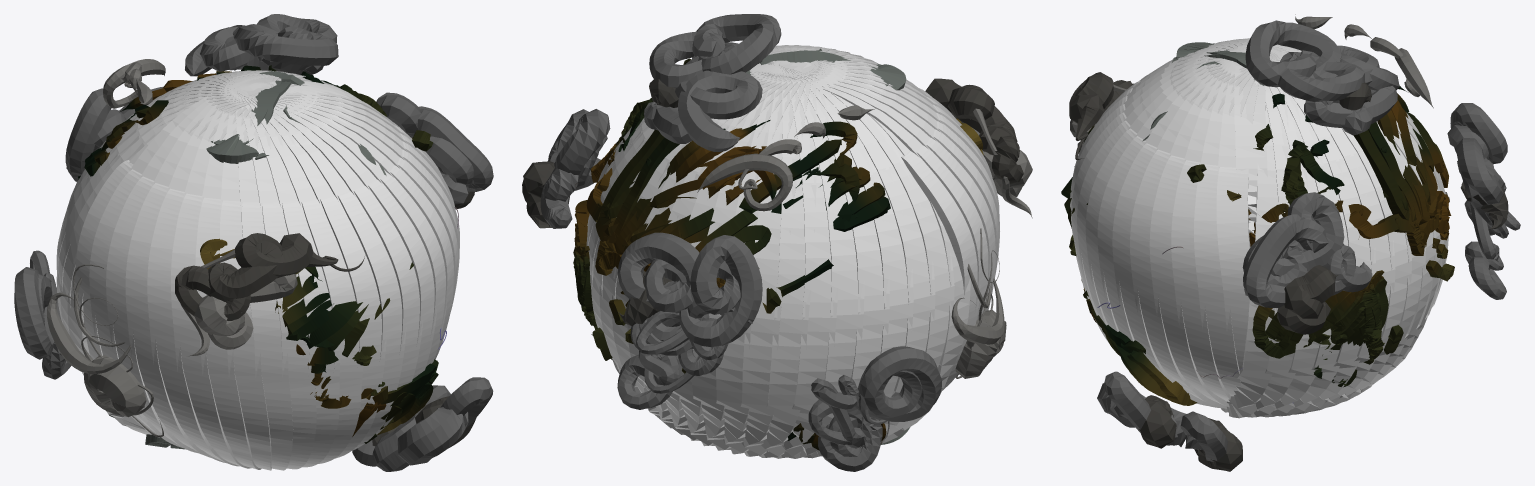
The model's file is Earth_sinking.fbx.
3 views of the same model, side by side, from view 1: azimuth 30°, elevation 25°; view 2: azimuth 150°, elevation 25°; view 3: azimuth 270°, elevation 25° (orthographic). The views are drawn at different scales.
Visible parts, largest first — view 1: Paint, NewLayer1, NewLayer0; view 2: Paint, NewLayer1, NewLayer0; view 3: Paint, NewLayer1, NewLayer0.
Boxes of the visible parts, left/top/right/bottom form: Paint: left=56, top=70, right=459, bottom=470; NewLayer1: left=14, top=14, right=493, bottom=471; NewLayer0: left=78, top=65, right=458, bottom=449; Paint: left=586, top=45, right=999, bottom=458; NewLayer1: left=522, top=14, right=1032, bottom=471; NewLayer0: left=573, top=48, right=983, bottom=450; Paint: left=1070, top=38, right=1448, bottom=418; NewLayer1: left=1069, top=14, right=1520, bottom=471; NewLayer0: left=1061, top=42, right=1454, bottom=405.
Bounding box in the file's own units: 8.13 × 7.74 × 7.98.
